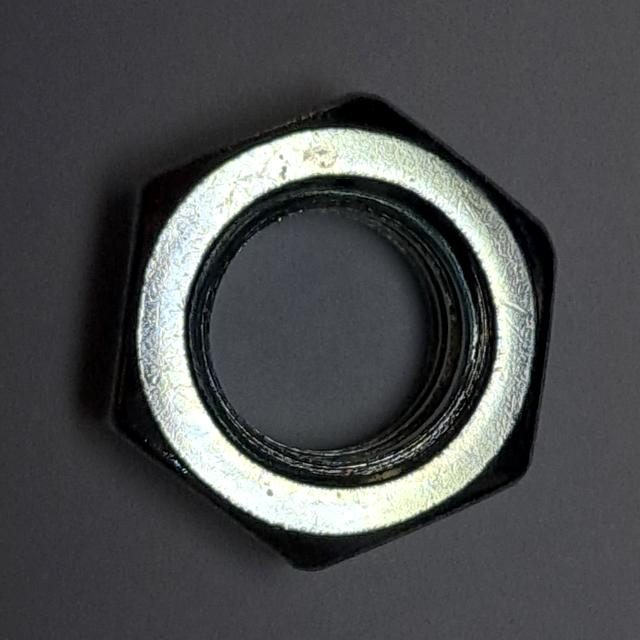Excellent: (96, 81, 564, 582)
